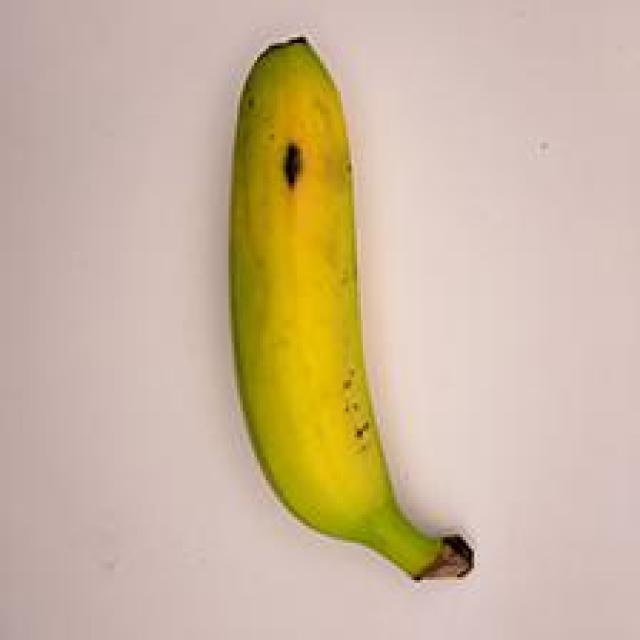unripe: (155, 32, 494, 608)
